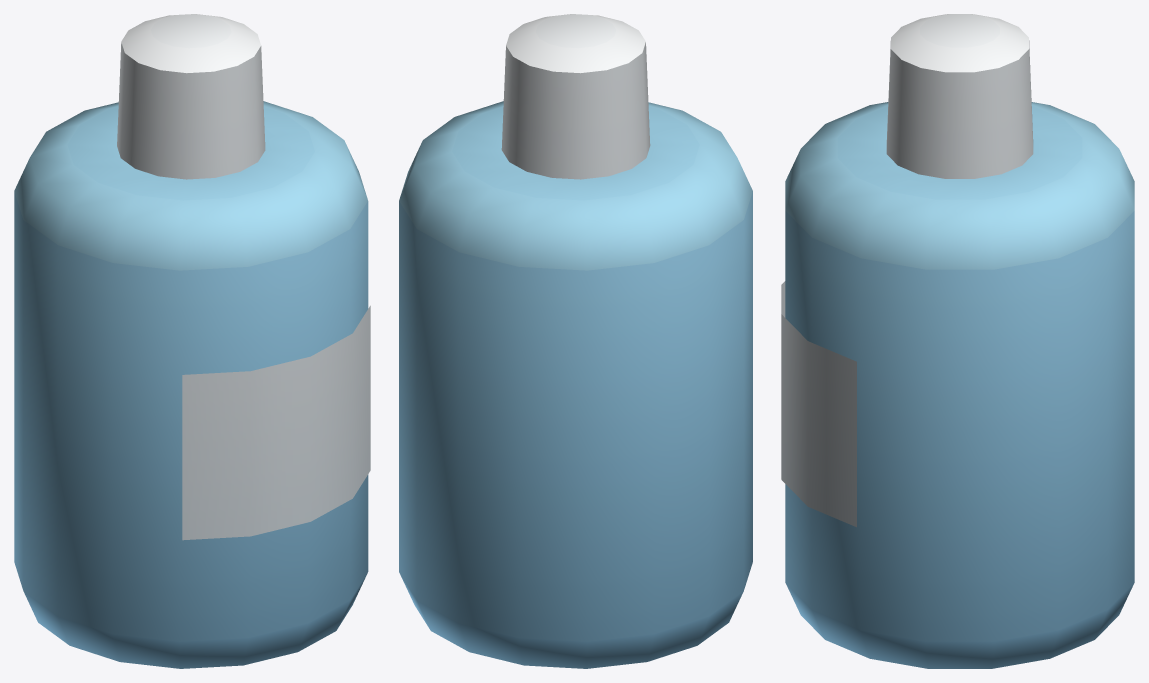
The model's file is container_bathroom_A_blue.fbx.
3 views of the same model, side by side, from view 1: azimuth 30°, elevation 25°; view 2: azimuth 150°, elevation 25°; view 3: azimuth 270°, elevation 25° (orthographic).
Parts seen in each view (by area): view 1: container_bathroom_A_blue; view 2: container_bathroom_A_blue; view 3: container_bathroom_A_blue.
Boxes of the visible parts, box(x1,y1,x2,y2) form: container_bathroom_A_blue: box(14, 14, 370, 668); container_bathroom_A_blue: box(399, 14, 752, 668); container_bathroom_A_blue: box(781, 14, 1134, 668).
Size of the model in its own units: 0.312 by 0.5778 by 0.3162.
